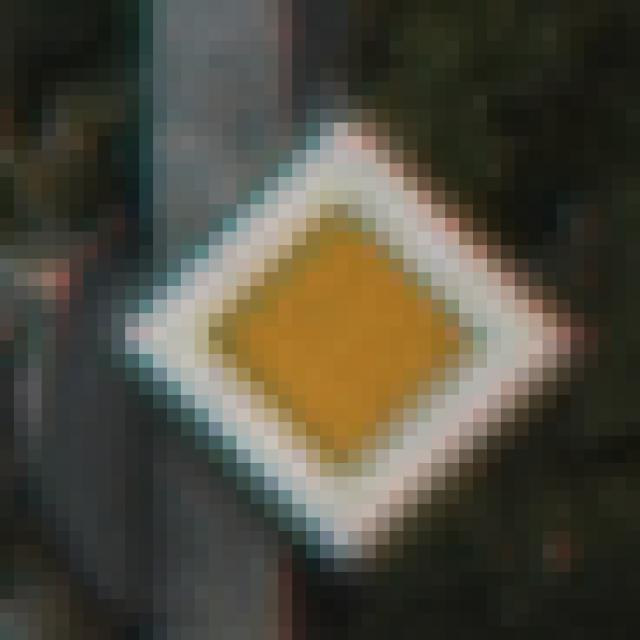Main Road: (85, 69, 572, 573)
